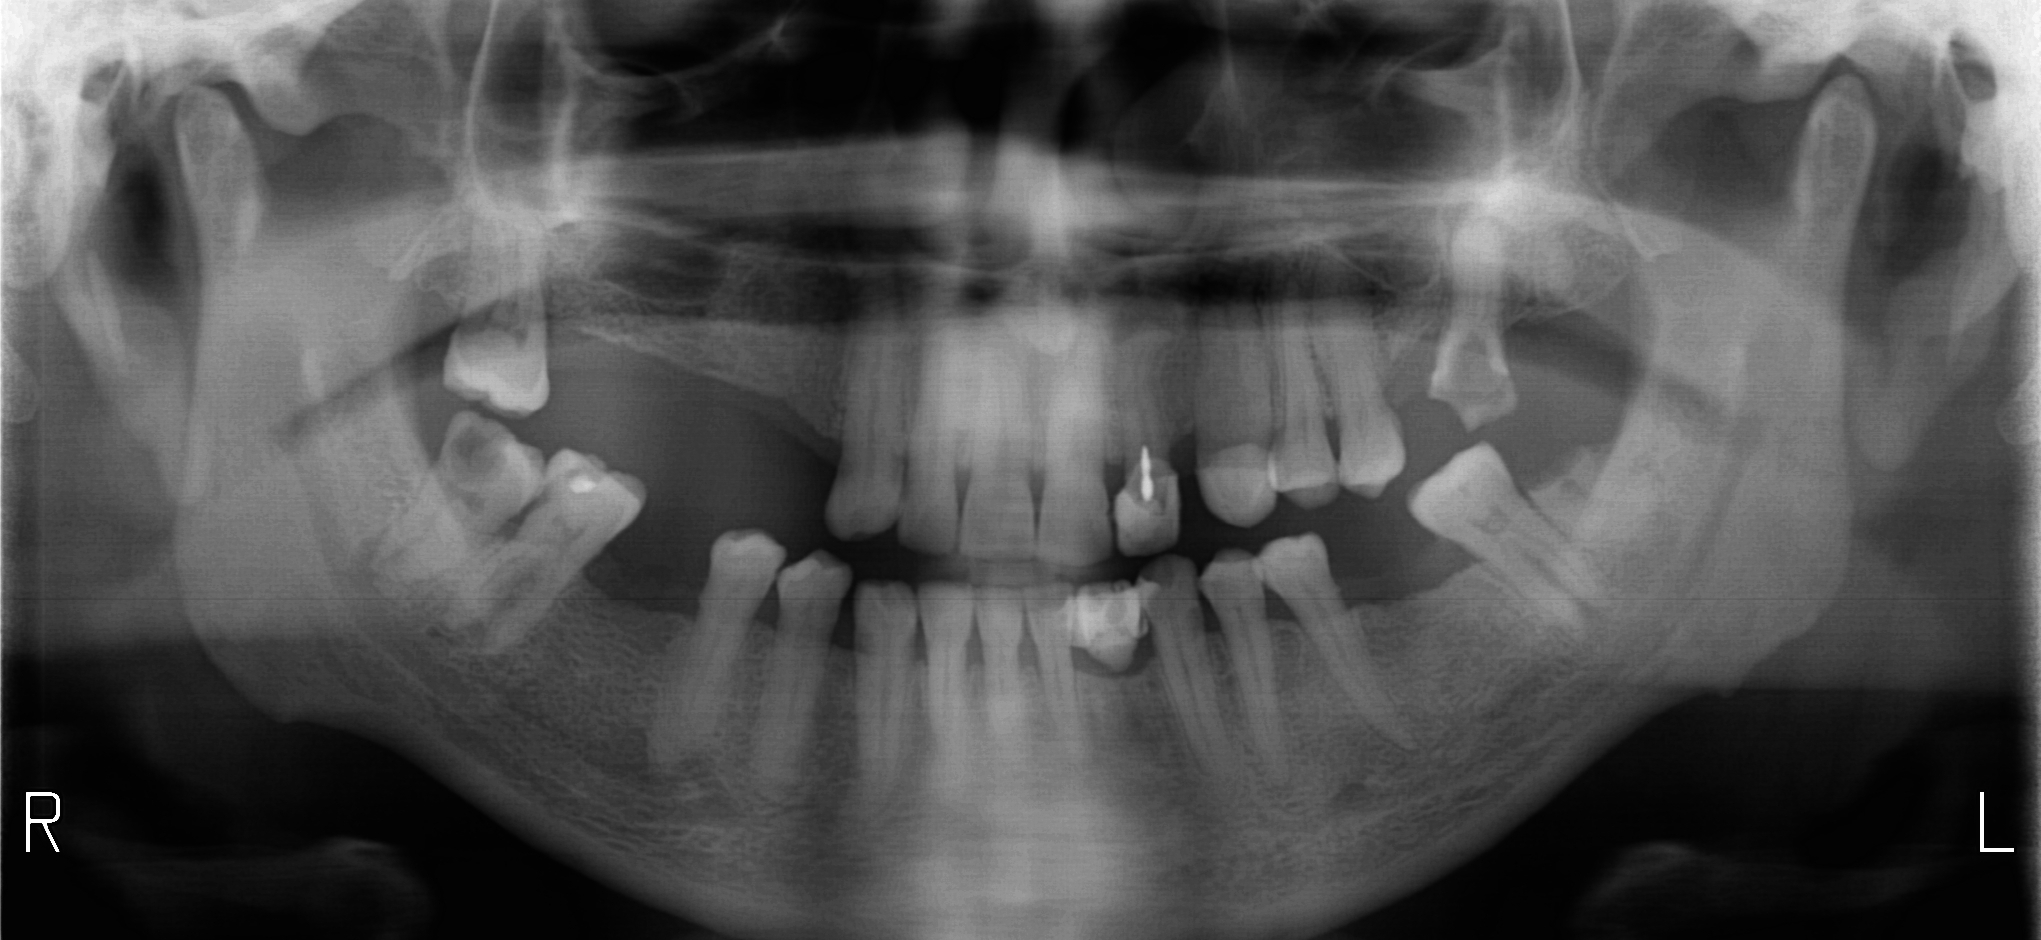cavity: (454, 424, 501, 475)
